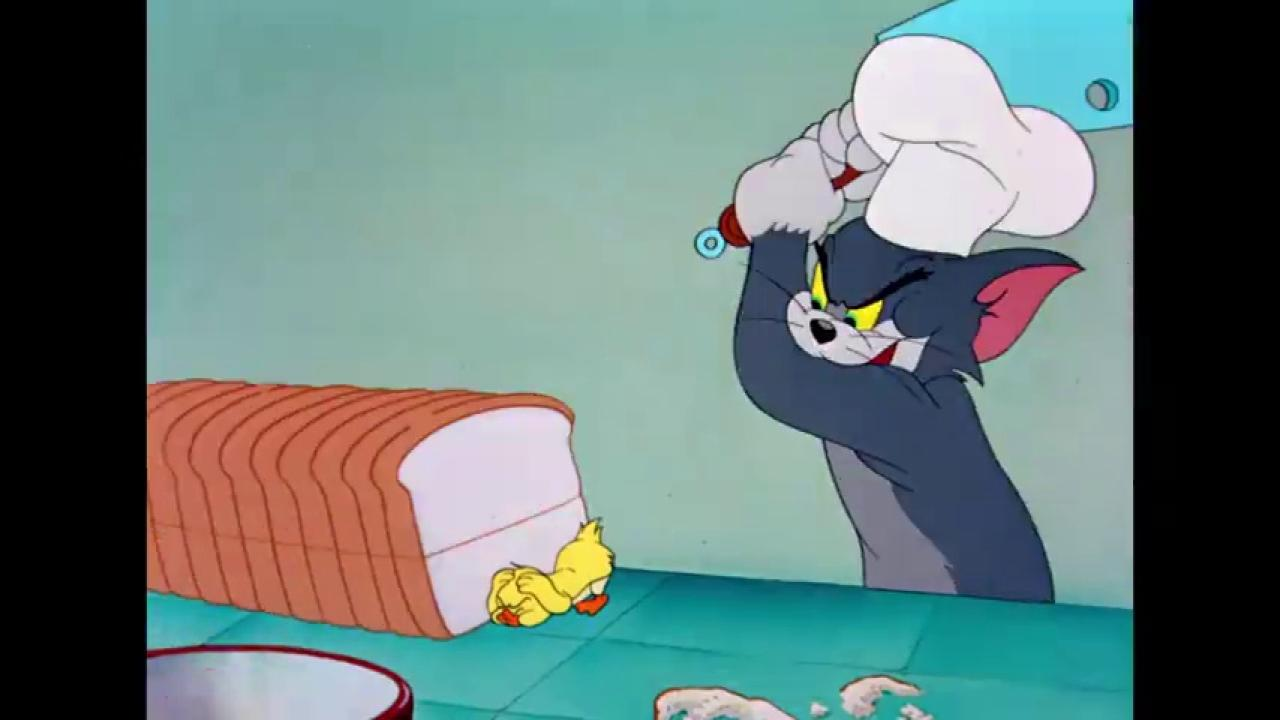Tom: (732, 98, 1087, 602)
